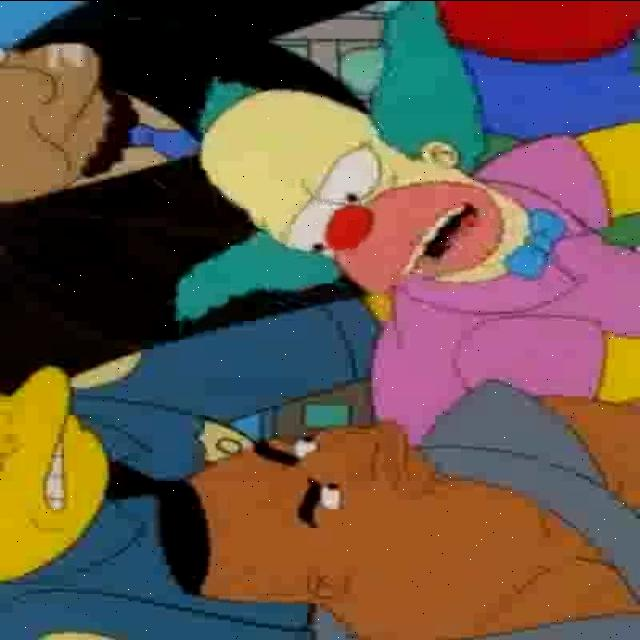Krusty the Clown: (170, 0, 530, 319)
